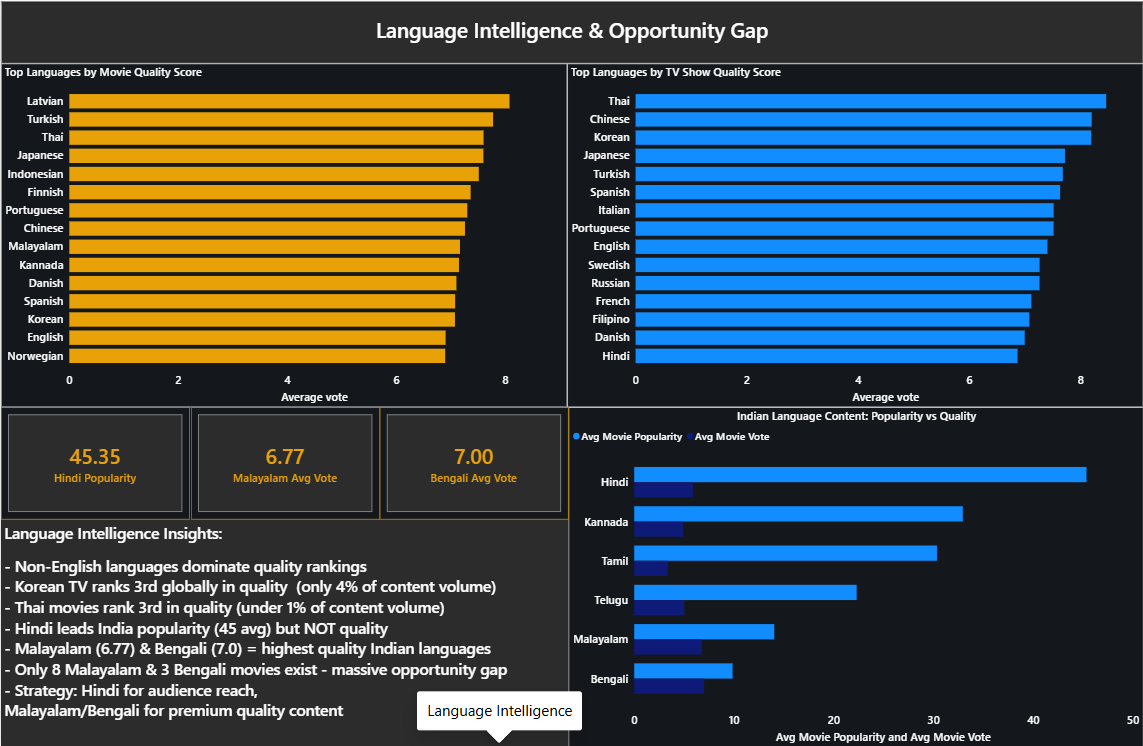

What the dashboard file says about the page in this screenshot:
{"tool":"powerbi","page":{"name":"Language Intelligence","canvas":[1766,1153],"ordinal":2},"visuals":[{"type":"textbox","box":[0,0,1765.8,96.6],"z":0},{"type":"clusteredBarChart","title":"Top Languages by Movie Quality Score","fields":{"Category":["language_lookup.language_name"],"Y":["Avg(ott_combined.vote_average)"]},"box":[0,96.6,875.2,531.3],"z":1000},{"type":"clusteredBarChart","title":"Top Languages by TV Show Quality Score","fields":{"Category":["language_lookup.language_name"],"Y":["Avg(ott_combined.vote_average)"]},"box":[875.2,96.6,890.6,531.3],"z":2000},{"type":"clusteredBarChart","title":"Indian Language Content: Popularity vs Quality","fields":{"Category":["language_lookup.language_name"],"Y":["_Measures.Avg Movie Popularity","_Measures.Avg Movie Vote"]},"box":[877.1,627.9,888.7,525.5],"z":3000},{"type":"textbox","box":[0,801.8,877.1,351.6],"z":4000},{"type":"cardVisual","fields":{"Data":["_Measures.Bengali Avg Vote"]},"box":[585.4,627.9,291.7,173.9],"z":5000},{"type":"cardVisual","fields":{"Data":["_Measures.Malayalam Avg Vote"]},"box":[293.7,627.9,291.7,173.9],"z":6000},{"type":"cardVisual","fields":{"Data":["_Measures.Hindi Avg Popularity"]},"box":[0,627.9,291.7,173.9],"z":7000}]}

Visuals, with their boxes in screenshot pixels (x1, y1, x2, y2), scaled from the page's 1766x1153 canvas onto the 1143x746 screenshot:
textbox: [left=0, top=0, right=1142, bottom=63]
"Top Languages by Movie Quality Score" clusteredBarChart: [left=0, top=63, right=566, bottom=406]
"Top Languages by TV Show Quality Score" clusteredBarChart: [left=566, top=63, right=1142, bottom=406]
"Indian Language Content: Popularity vs Quality" clusteredBarChart: [left=568, top=406, right=1142, bottom=745]
textbox: [left=0, top=519, right=568, bottom=745]
cardVisual - _Measures.Bengali Avg Vote: [left=379, top=406, right=568, bottom=519]
cardVisual - _Measures.Malayalam Avg Vote: [left=190, top=406, right=379, bottom=519]
cardVisual - _Measures.Hindi Avg Popularity: [left=0, top=406, right=189, bottom=519]
